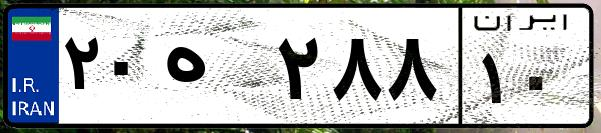0: (525, 38, 570, 115), (110, 28, 158, 98)
1: (475, 38, 525, 113)
2: (270, 28, 330, 110), (57, 26, 110, 100)
8: (385, 28, 445, 110), (330, 28, 385, 110)
ه: (158, 20, 270, 120)
